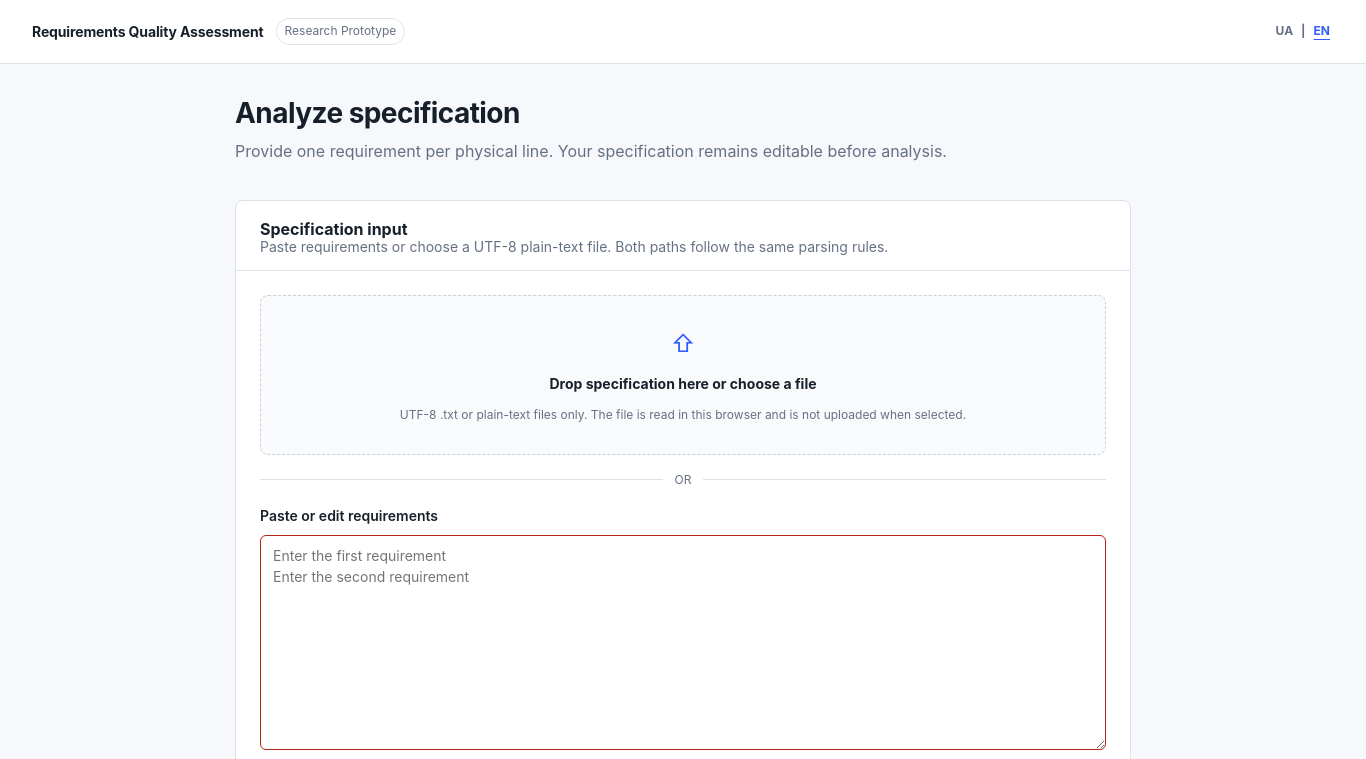
Test: RUI-13 process projection › Process navigation and locale switching perform no analysis request
Type "Requirement" into the text box labelled "Paste or edit requirements" at (683, 642), box [260,535,1106,750]
(page scrolled)
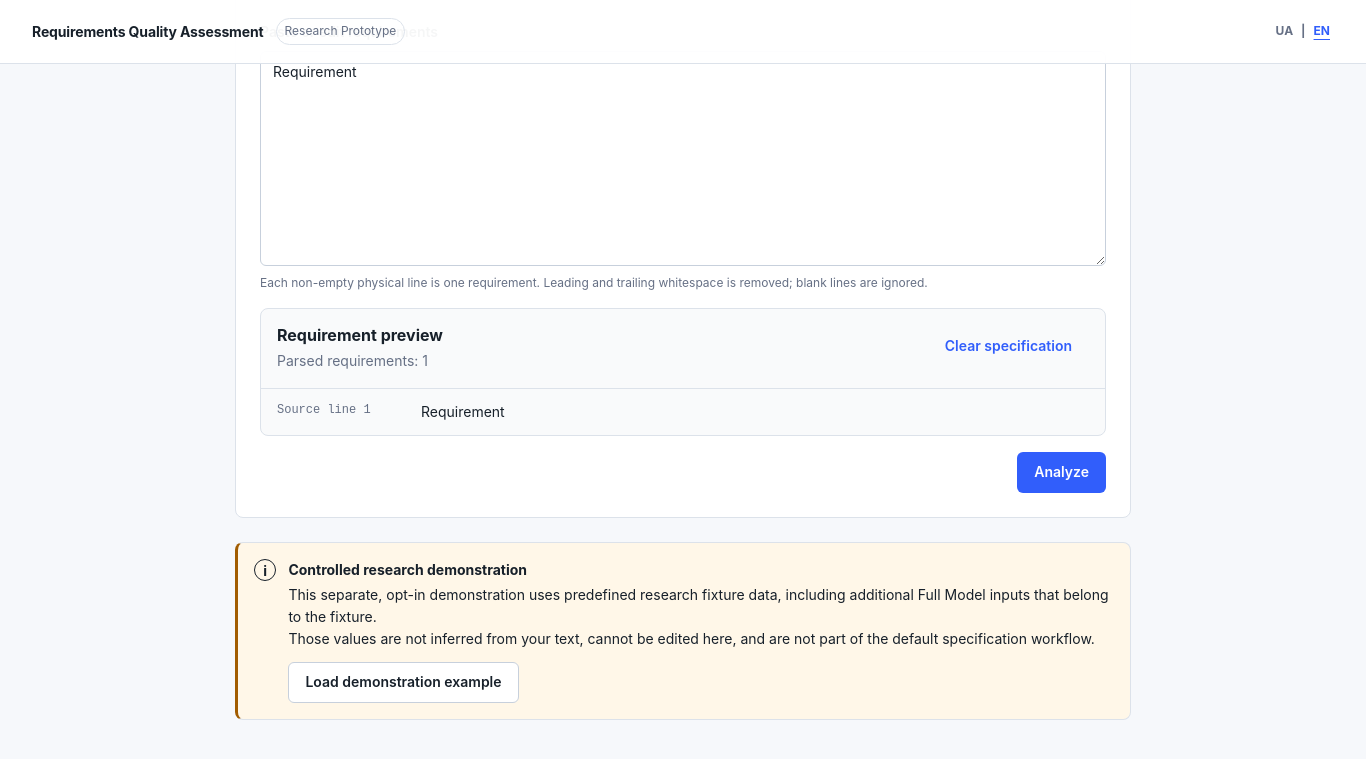
Click the button "Analyze" at (1062, 472), box [1017,452,1106,493]
(page scrolled)
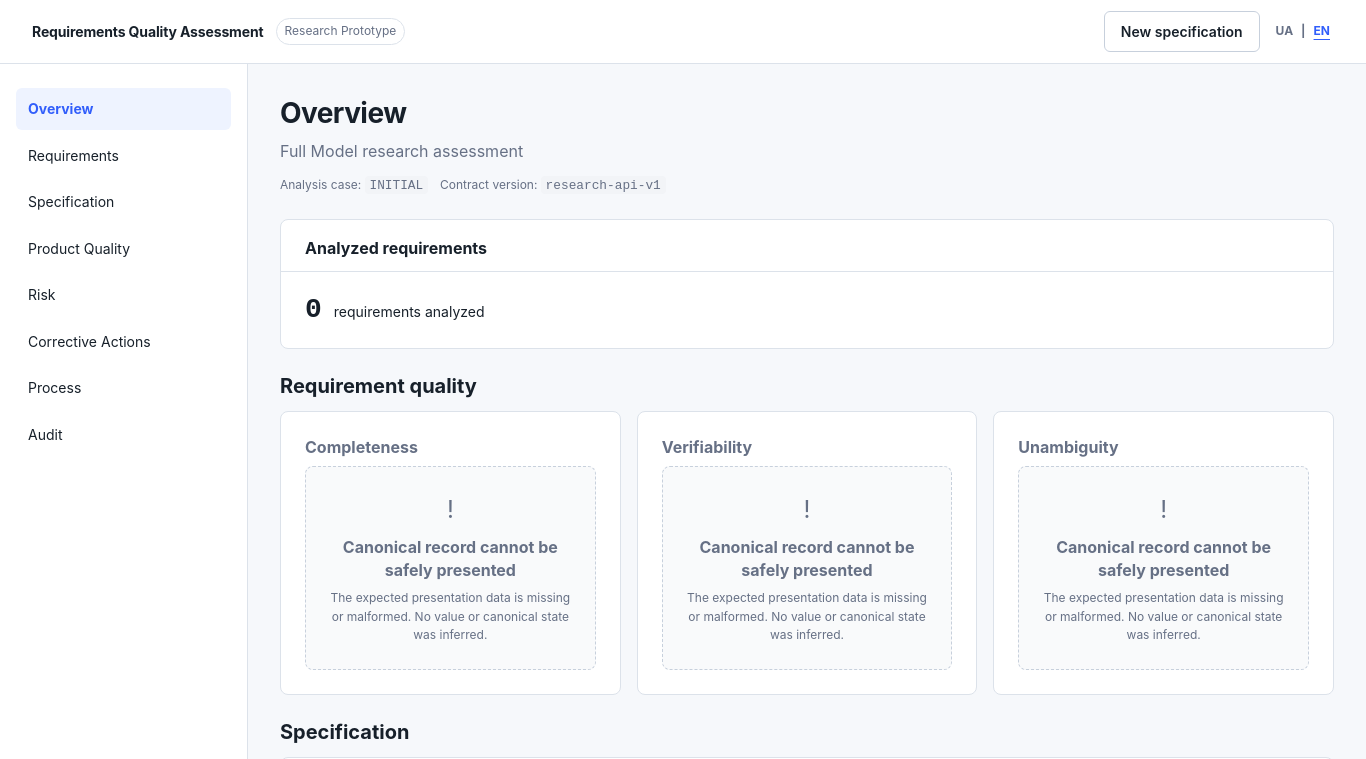
Expected: the heading "Overview" is shown, [280,96,406,130]
Click the button "Process" at (124, 388), box [16,367,231,409]
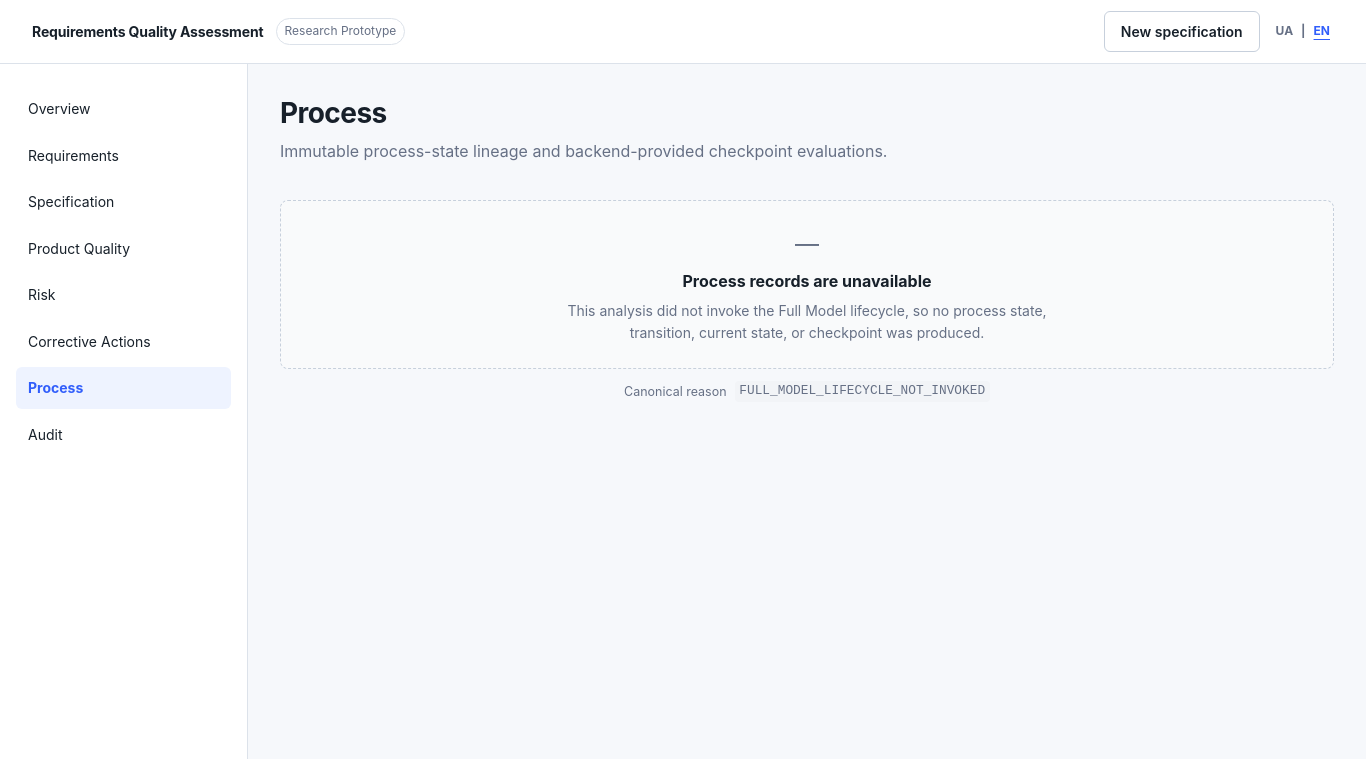
Expected: the text "FULL_MODEL_LIFECYCLE_NOT_INVOKED" is shown, [734,381,990,402]
Click the button with aria-label "Ukrainian" at (1284, 32), box [1272,18,1297,45]
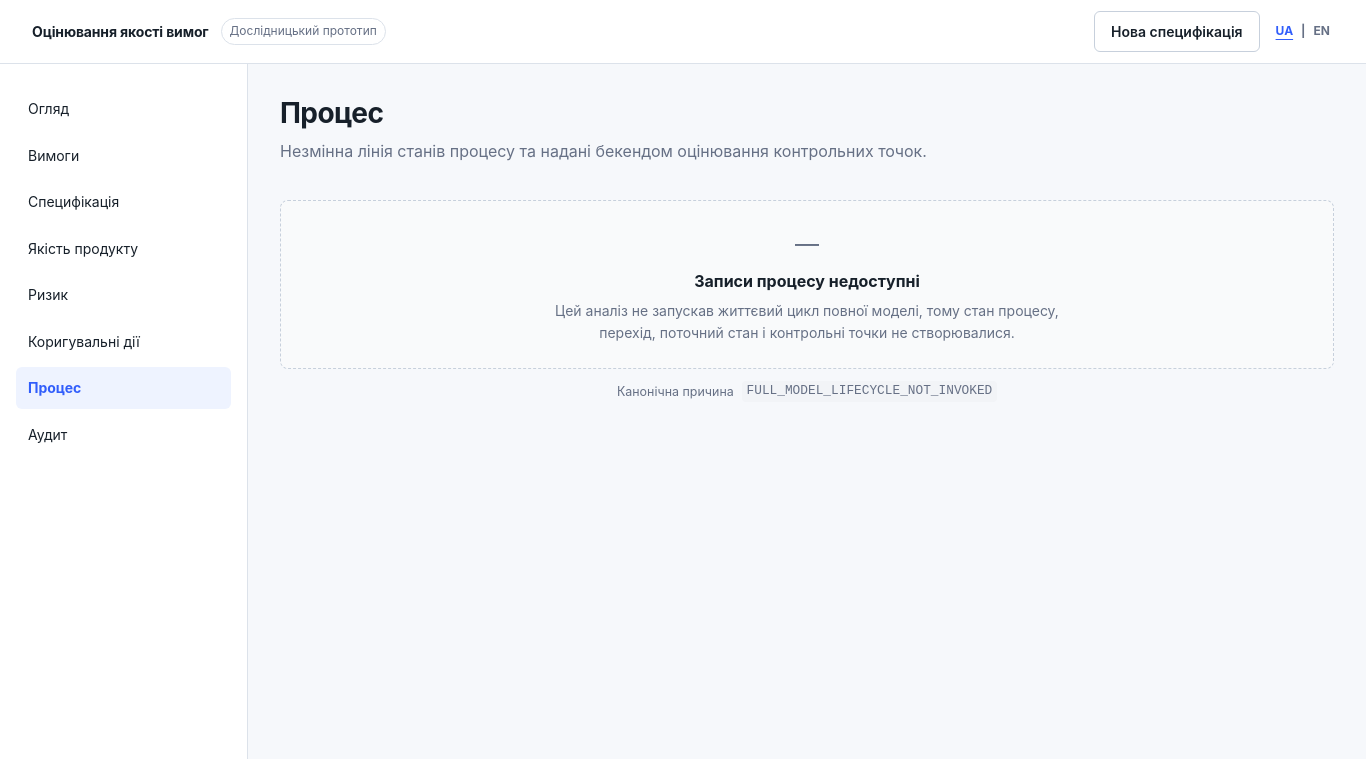
Expected: the heading "Процес" is shown, [280,96,383,130]
